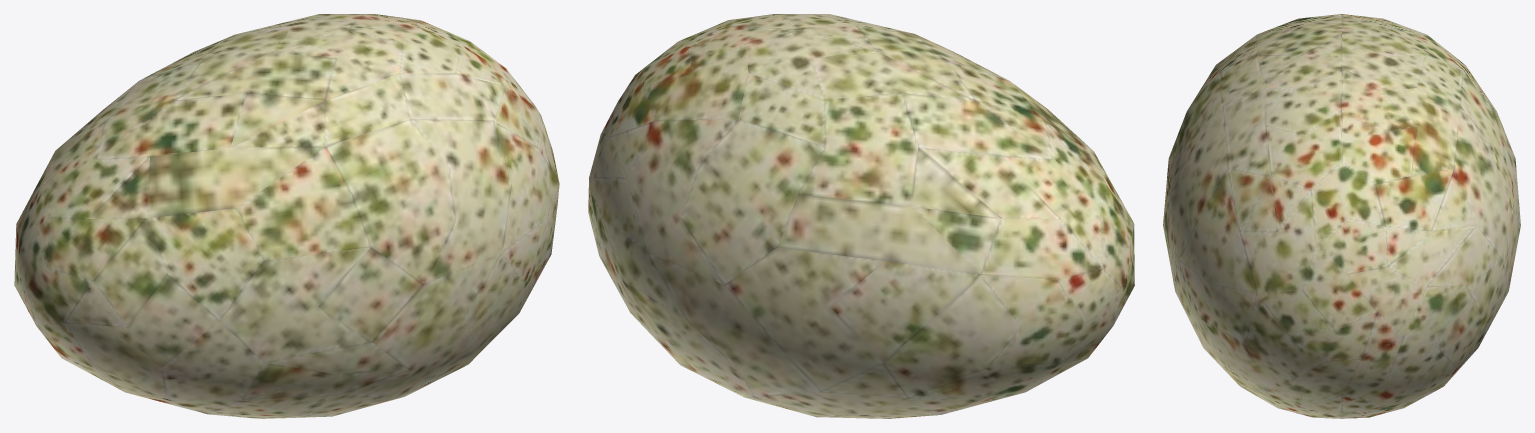
File: koa_egg.glb
3 views of the same model, side by side, from view 1: azimuth 30°, elevation 25°; view 2: azimuth 150°, elevation 25°; view 3: azimuth 270°, elevation 25° (orthographic). The views are drawn at different scales.
Parts seen in each view (by area): view 1: geometry_0; view 2: geometry_0; view 3: geometry_0.
Boxes of the visible parts, left/top/right/bottom form: geometry_0: left=14, top=14, right=559, bottom=418; geometry_0: left=588, top=14, right=1134, bottom=418; geometry_0: left=1163, top=14, right=1520, bottom=418.
Bounding box in the file's own units: 0.17 × 0.1138 × 0.1099.
1 material, 1 textured.
